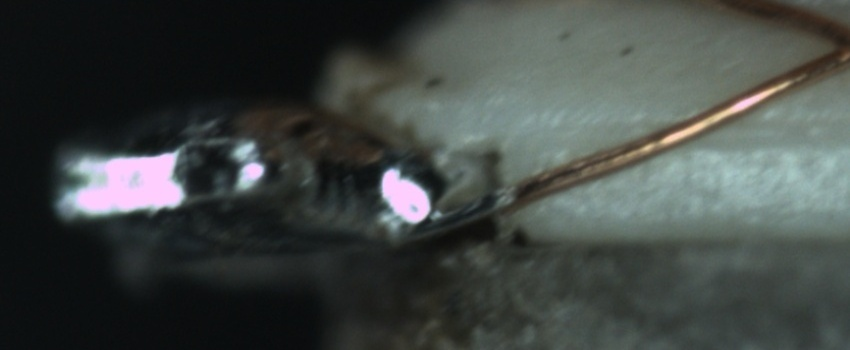CL: (804, 11, 850, 78)
DL: (564, 96, 844, 165)
